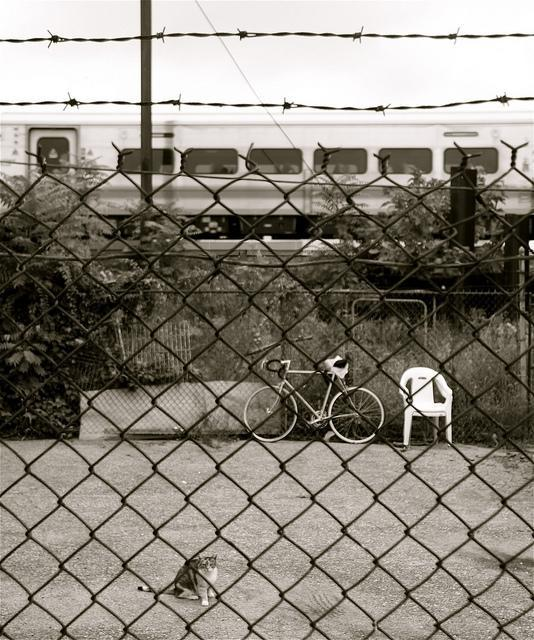bicycle: (240, 358, 384, 448)
